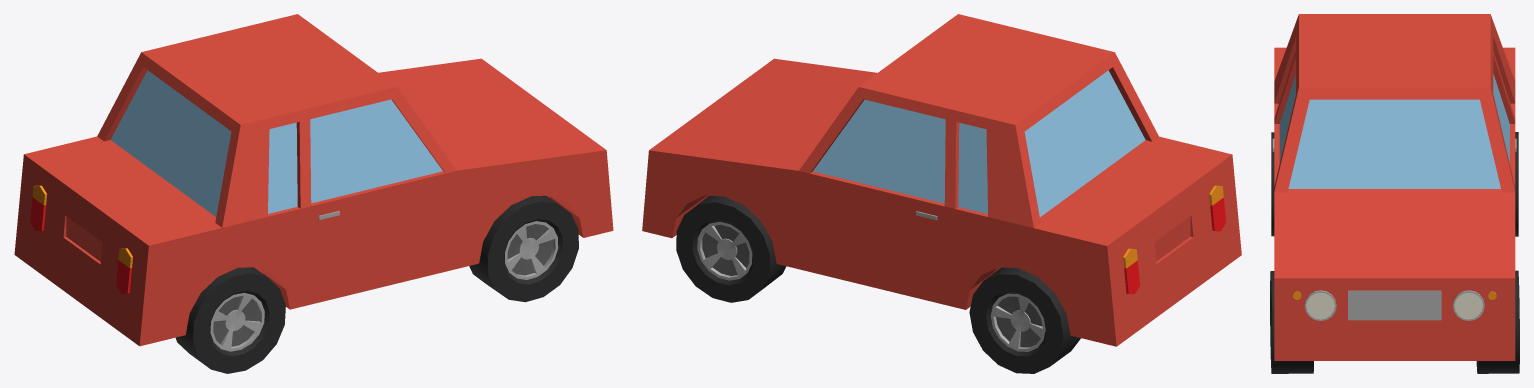
File: vehicles_asset_v2.fbx
3 views of the same model, side by side, from view 1: azimuth 30°, elevation 25°; view 2: azimuth 150°, elevation 25°; view 3: azimuth 270°, elevation 25° (orthographic). The views are drawn at different scales.
Visible parts, largest first — view 1: car-normal-red, car-normal-red.005, car_trunk, car-normal-red.007, car-normal-red.006, car-normal-red.004; view 2: car-normal-red, car-normal-red.003, car_trunk, car-normal-red.007, car-normal-red.002, car-normal-red.001; view 3: car-normal-red, car-normal-red.007, car-normal-red.004, car-normal-red.001, car-normal-red.003, car-normal-red.005, car-normal-red.002, car-normal-red.006.
Boxes of the visible parts, x1,y1,x2,y2 form: car-normal-red: [14, 14, 613, 346]; car-normal-red.005: [310, 99, 445, 291]; car_trunk: [24, 145, 199, 306]; car-normal-red.007: [385, 65, 589, 163]; car-normal-red.006: [175, 267, 285, 373]; car-normal-red.004: [469, 195, 578, 302]; car-normal-red: [642, 14, 1241, 346]; car-normal-red.003: [809, 99, 945, 291]; car_trunk: [1056, 145, 1231, 306]; car-normal-red.007: [666, 65, 870, 164]; car-normal-red.002: [969, 267, 1080, 373]; car-normal-red.001: [676, 196, 786, 302]; car-normal-red: [1274, 14, 1515, 360]; car-normal-red.007: [1287, 199, 1501, 272]; car-normal-red.004: [1270, 271, 1313, 373]; car-normal-red.001: [1476, 270, 1519, 373]; car-normal-red.003: [1493, 73, 1516, 186]; car-normal-red.005: [1272, 74, 1295, 185]; car-normal-red.002: [1515, 132, 1518, 236]; car-normal-red.006: [1271, 132, 1274, 236].
Bounding box in the file's own units: 182 × 85.5 × 86.08.
